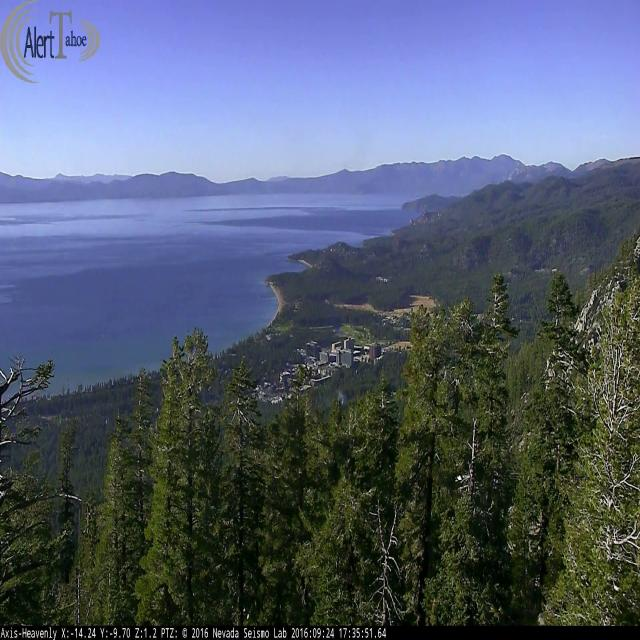smoke: (335, 390, 347, 405)
